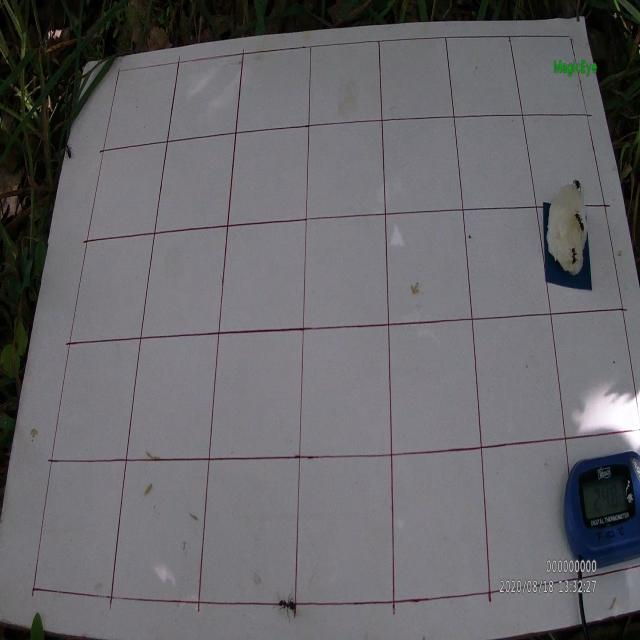Ant: (273, 590, 299, 622), (574, 210, 584, 239), (572, 177, 581, 200), (569, 243, 578, 265), (65, 144, 74, 162)
